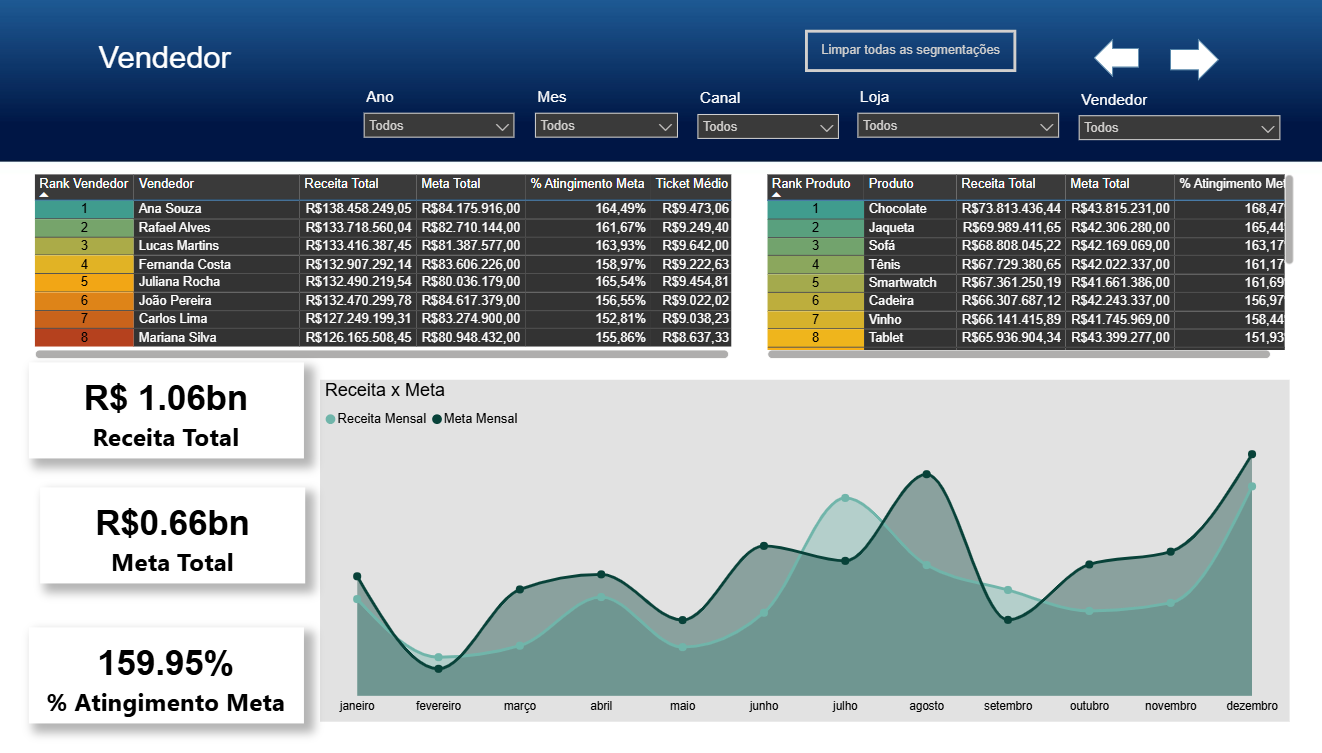

The dashboard page shown, as its layout file describes it:
{"tool":"powerbi","page":{"name":"Vendedor","canvas":[1380,800],"ordinal":2},"visuals":[{"type":"tableEx","fields":{"Values":["Medidas.Rank Vendedor","d_vendedor.nome_vendedor","Medidas.Receita Total","Medidas.Meta Total","Medidas.% Atingimento Meta","Medidas.Ticket Médio"]},"box":[35.3,179.4,733.2,200.6],"z":0},{"type":"areaChart","title":"Receita x Meta","fields":{"Category":["d_Calendario.Mes"],"Y":["Medidas.Receita Mensal"],"Y2":["Medidas.Meta Mensal"]},"box":[336.7,398.1,1004.8,354.5],"z":1000},{"type":"tableEx","fields":{"Values":["Medidas.Rank Produto","d_produto.nome_produto","Medidas.Receita Total","Medidas.Meta Total","Medidas.% Atingimento Meta"]},"box":[794,179.4,556.6,200.6],"z":2000},{"type":"slicer","fields":{"Values":["d_tempo.ano"]},"box":[372.4,90.4,176.6,89],"z":3000},{"type":"slicer","fields":{"Values":["d_Calendario.Mes"]},"box":[549,90.4,168.1,90.4],"z":4000},{"type":"slicer","fields":{"Values":["d_canal.canal_de_venda"]},"box":[717.1,91.8,166.7,89],"z":5000},{"type":"slicer","fields":{"Values":["d_loja.nome_loja"]},"box":[883.8,90.4,228.9,89],"z":6000},{"type":"slicer","fields":{"Values":["d_vendedor.nome_vendedor"]},"box":[1113.3,93.2,228.9,87.6],"z":7000},{"type":"advanceCardE03760C5AB684758B56AA29F9E6C257B","fields":{"mainMeasure":["Medidas.Receita Total"]},"box":[35.3,380,285.4,98.9],"z":8000},{"type":"advanceCardE03760C5AB684758B56AA29F9E6C257B","fields":{"mainMeasure":["Medidas.Meta Total"]},"box":[46.6,508.6,274.1,98.9],"z":9000},{"type":"advanceCardE03760C5AB684758B56AA29F9E6C257B","fields":{"mainMeasure":["Medidas.% Atingimento Meta"]},"box":[35.3,654.1,285.4,98.9],"z":10000},{"type":"textbox","box":[101.7,41,190.7,74.9],"z":11000},{"type":"shape","box":[1138.6,43.7,47,40],"z":12000},{"type":"shape","box":[1217.8,43.8,50.9,43.8],"z":13000},{"type":"actionButton","box":[839.2,35.3,219,43.8],"z":14000}]}

Visuals, with their boxes in screenshot pixels (x1, y1, x2, y2), scaled from the page's 1380x800 canvas onto the 1322x753 screenshot:
tableEx - Medidas.Rank Vendedor x d_vendedor.nome_vendedor: {"x1": 34, "y1": 169, "x2": 736, "y2": 358}
"Receita x Meta" areaChart: {"x1": 323, "y1": 375, "x2": 1285, "y2": 708}
tableEx - Medidas.Rank Produto x d_produto.nome_produto: {"x1": 761, "y1": 169, "x2": 1294, "y2": 358}
slicer - d_tempo.ano: {"x1": 357, "y1": 85, "x2": 526, "y2": 169}
slicer - d_Calendario.Mes: {"x1": 526, "y1": 85, "x2": 687, "y2": 170}
slicer - d_canal.canal_de_venda: {"x1": 687, "y1": 86, "x2": 847, "y2": 170}
slicer - d_loja.nome_loja: {"x1": 847, "y1": 85, "x2": 1066, "y2": 169}
slicer - d_vendedor.nome_vendedor: {"x1": 1067, "y1": 88, "x2": 1286, "y2": 170}
advanceCardE03760C5AB684758B56AA29F9E6C257B - Medidas.Receita Total: {"x1": 34, "y1": 358, "x2": 307, "y2": 451}
advanceCardE03760C5AB684758B56AA29F9E6C257B - Medidas.Meta Total: {"x1": 45, "y1": 479, "x2": 307, "y2": 572}
advanceCardE03760C5AB684758B56AA29F9E6C257B - Medidas.% Atingimento Meta: {"x1": 34, "y1": 616, "x2": 307, "y2": 709}
textbox: {"x1": 97, "y1": 39, "x2": 280, "y2": 109}
shape: {"x1": 1091, "y1": 41, "x2": 1136, "y2": 79}
shape: {"x1": 1167, "y1": 41, "x2": 1215, "y2": 82}
actionButton: {"x1": 804, "y1": 33, "x2": 1014, "y2": 74}
